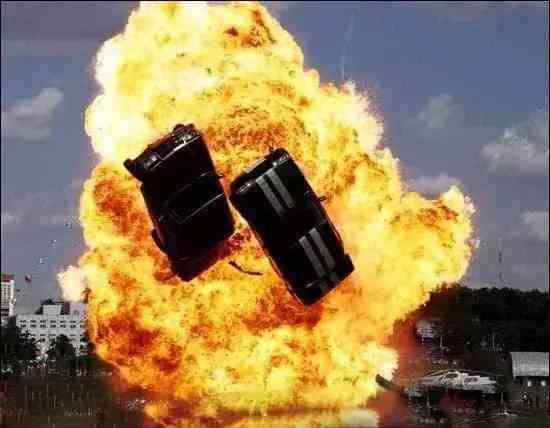fire: (65, 3, 476, 428)
